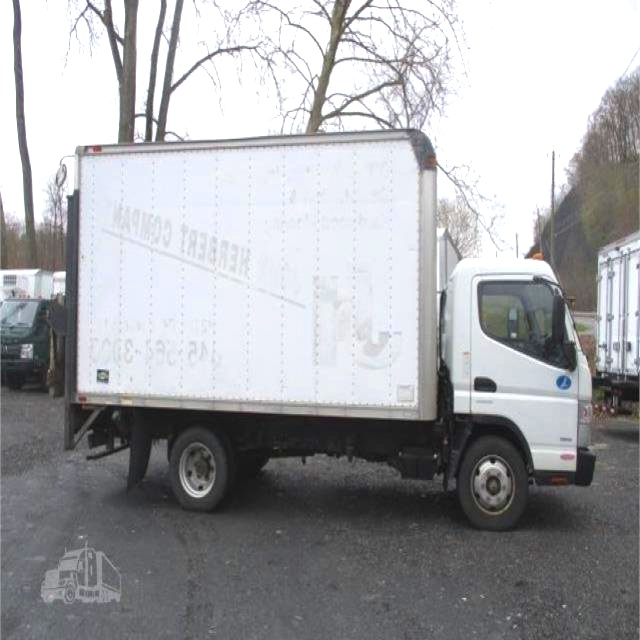truck: (32, 88, 622, 532)
